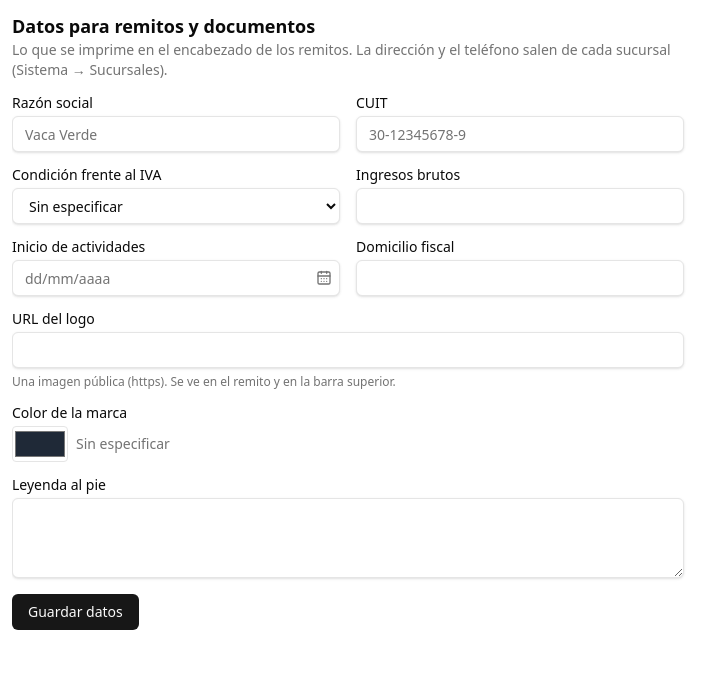
it: fulfillment screens › saves the organization document data
The image size is (702, 683).
Type "Distribuidora Arrecifes S.R.L." into the field labelled "Razón social".
click(176, 134); type("Distribuidora Arrecifes S.R.L.")  # box x1=12 y1=116 x2=340 y2=152
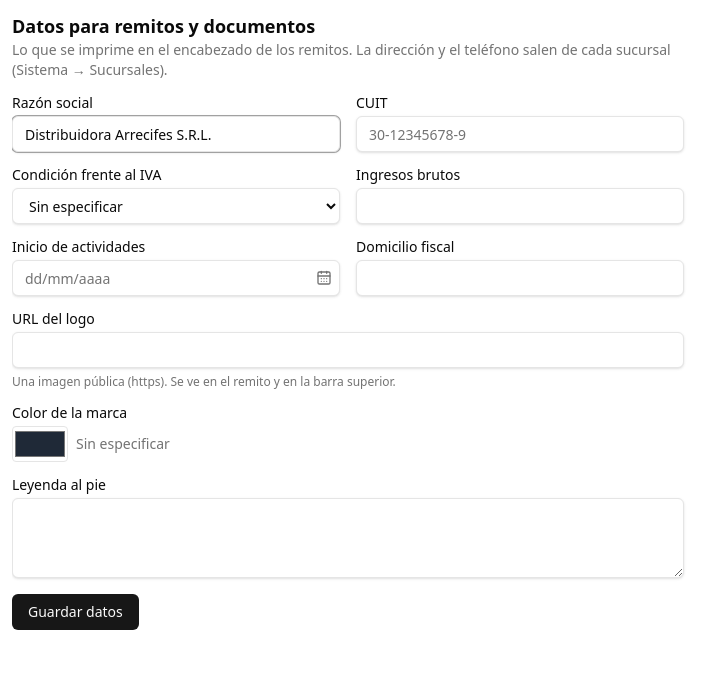
Type "30712345671" into the field labelled "CUIT".
click(520, 134); type("30712345671")  # box x1=356 y1=116 x2=684 y2=152
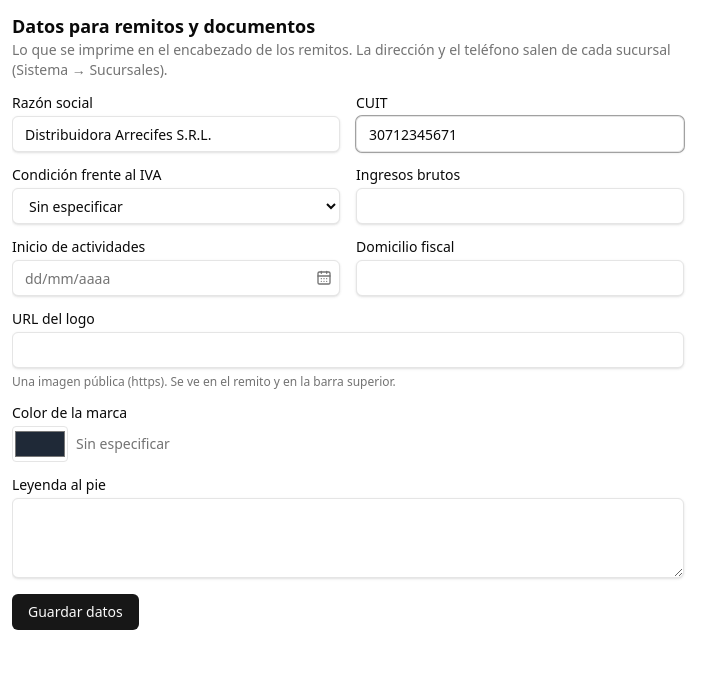
Select "Responsable inscripto" in the dropdown labelled "Condición frente al IVA" at (176, 206), box x1=12 y1=188 x2=340 y2=224
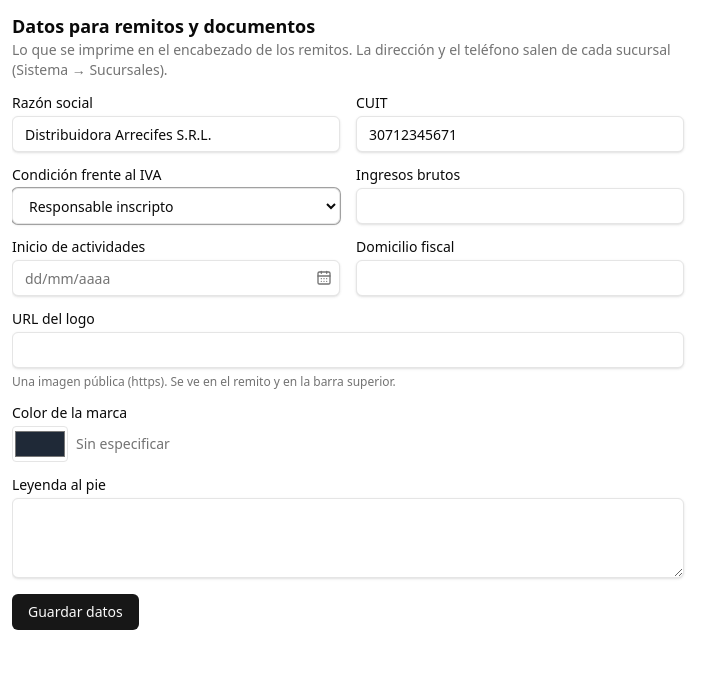
Click the button "Guardar datos".
click(75, 612)  # box x1=12 y1=594 x2=139 y2=630
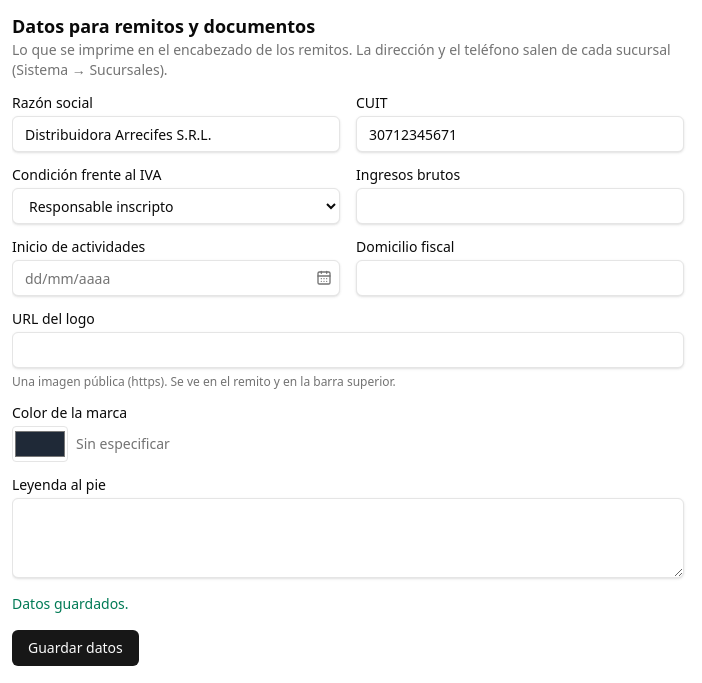
Now the text "Datos guardados." is shown, box x1=12 y1=594 x2=129 y2=613
